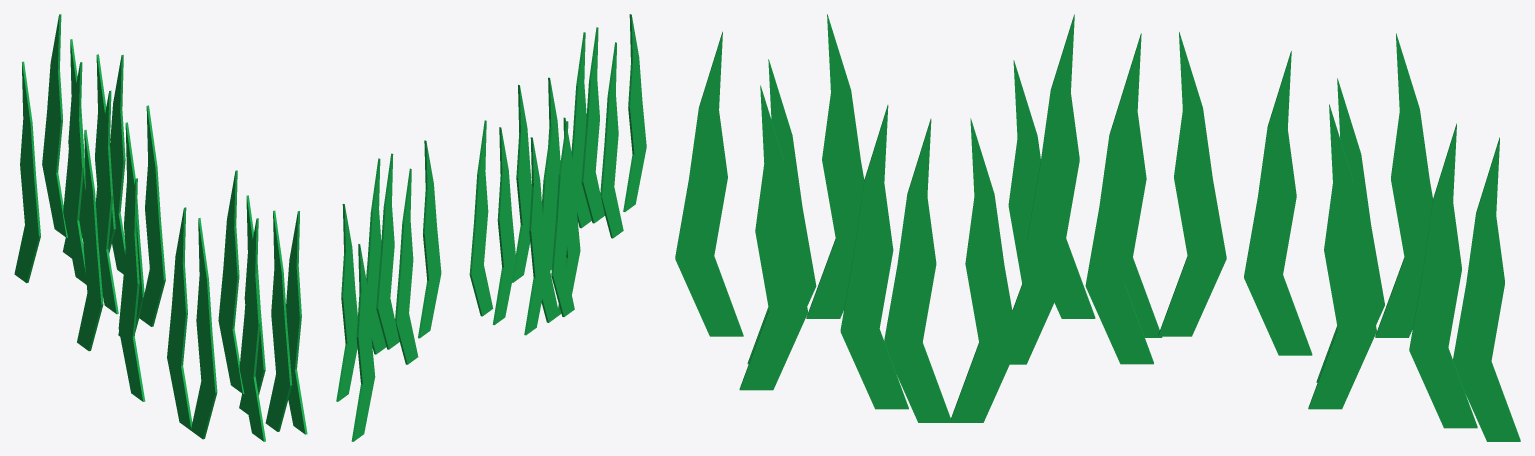
Rendered from combatGrass.fbx.
3 renders of one model, left to right at view 1: azimuth 30°, elevation 25°; view 2: azimuth 150°, elevation 25°; view 3: azimuth 270°, elevation 25°, orthographic. The views are drawn at different scales.
Parts seen in each view (by area): view 1: Cube.001; view 2: Cube.001; view 3: Cube.001.
Part boxes in pixels (x1,y1,x2,y2): Cube.001: [14, 14, 307, 441]; Cube.001: [336, 14, 646, 441]; Cube.001: [675, 14, 1520, 441].
Bounding box in the file's own units: 100 × 263 × 494.
